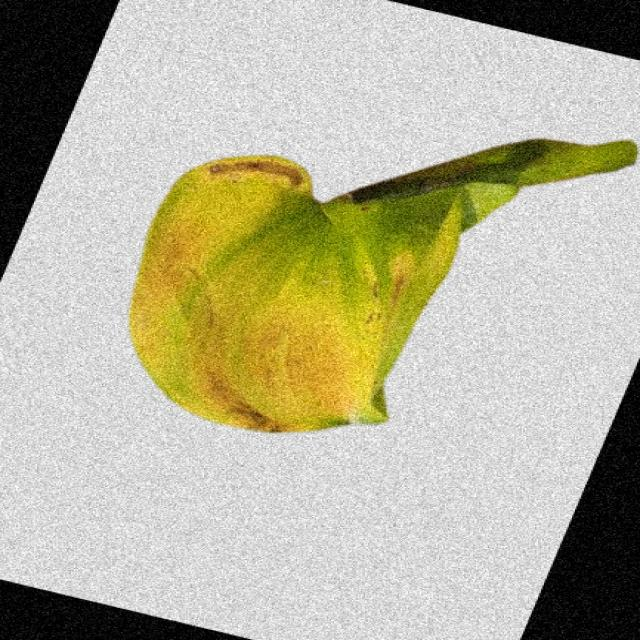daun berpenyakit kuning: (130, 139, 636, 432)
